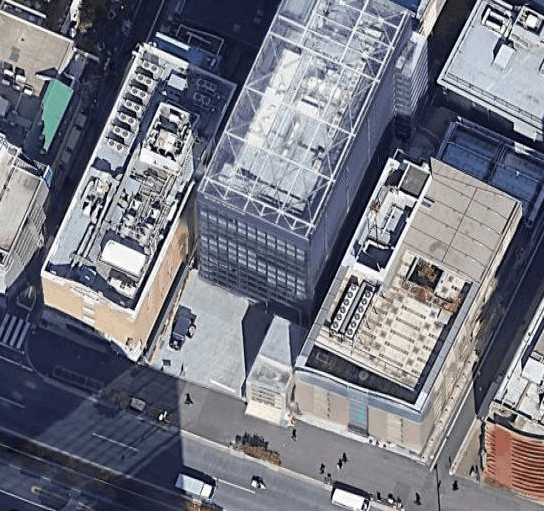facility: (0, 44, 80, 182)
flatroof: (238, 310, 306, 400)
rooftop: (297, 147, 517, 417), (28, 35, 239, 310), (448, 0, 543, 103)
